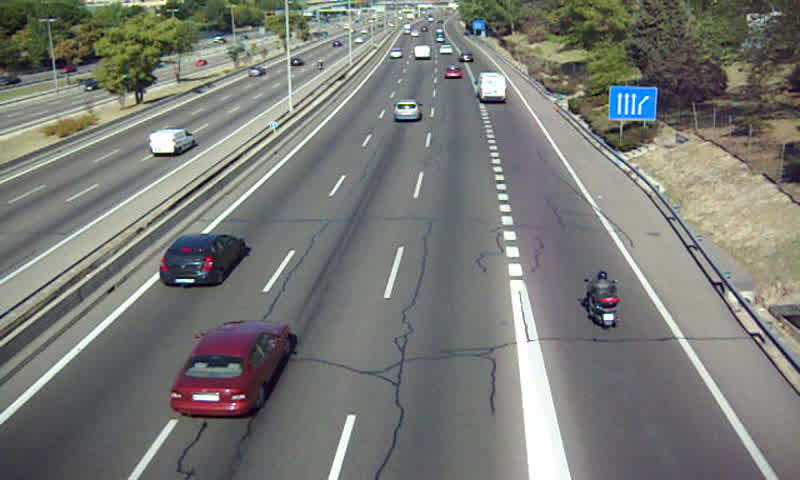car: (171, 321, 291, 413), (159, 234, 244, 285), (391, 99, 421, 124), (443, 65, 462, 80), (458, 50, 475, 64), (439, 43, 454, 56), (389, 48, 402, 60)
motorcycle: (583, 271, 620, 330)
van: (473, 72, 507, 102), (412, 45, 429, 60)
